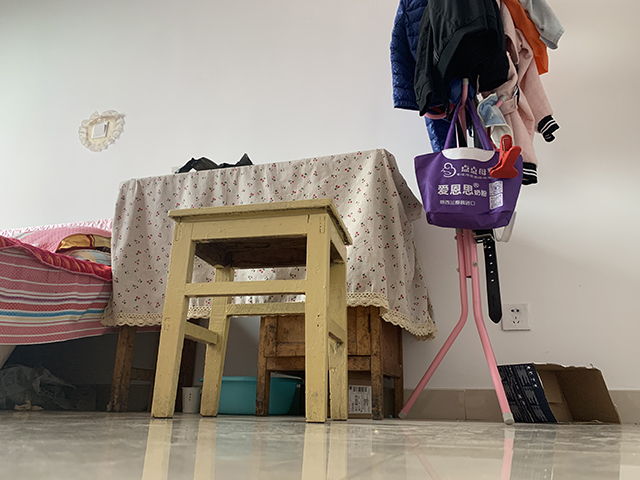bed: (1, 217, 199, 411)
stool: (148, 196, 354, 425)
table: (102, 146, 437, 421)
